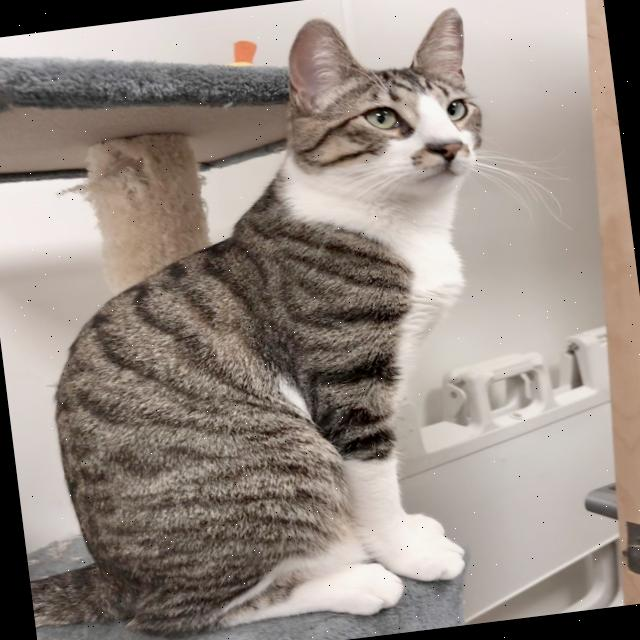american_shorthair_cat: (263, 0, 501, 221)
